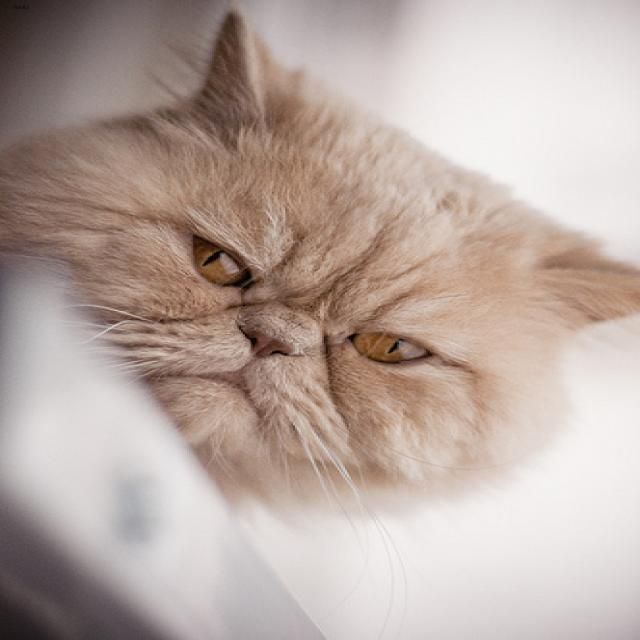Persian: (0, 0, 640, 529)
